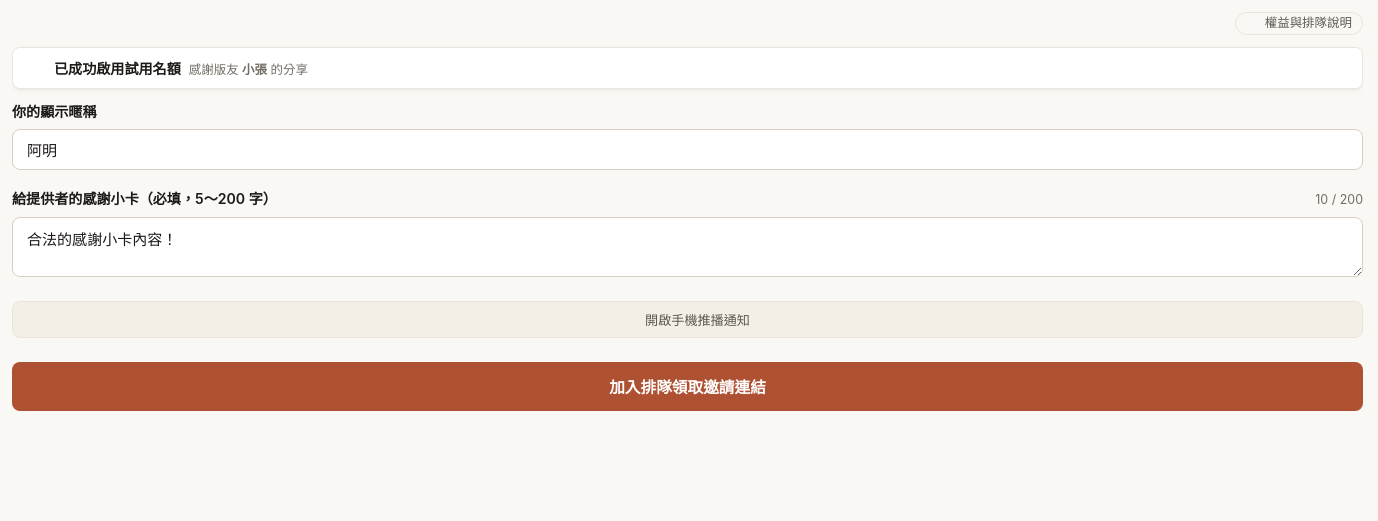
Test: ReceiverPanel 領取歷史卡 › 沒有邀請連結備查時，展開後只顯示感謝小卡
The width and height of the screenshot is (1378, 521).
Click the button "已成功啟用試用名額 感謝版友 小張 的分享" at (117, 68), box left=13, top=48, right=1362, bottom=88
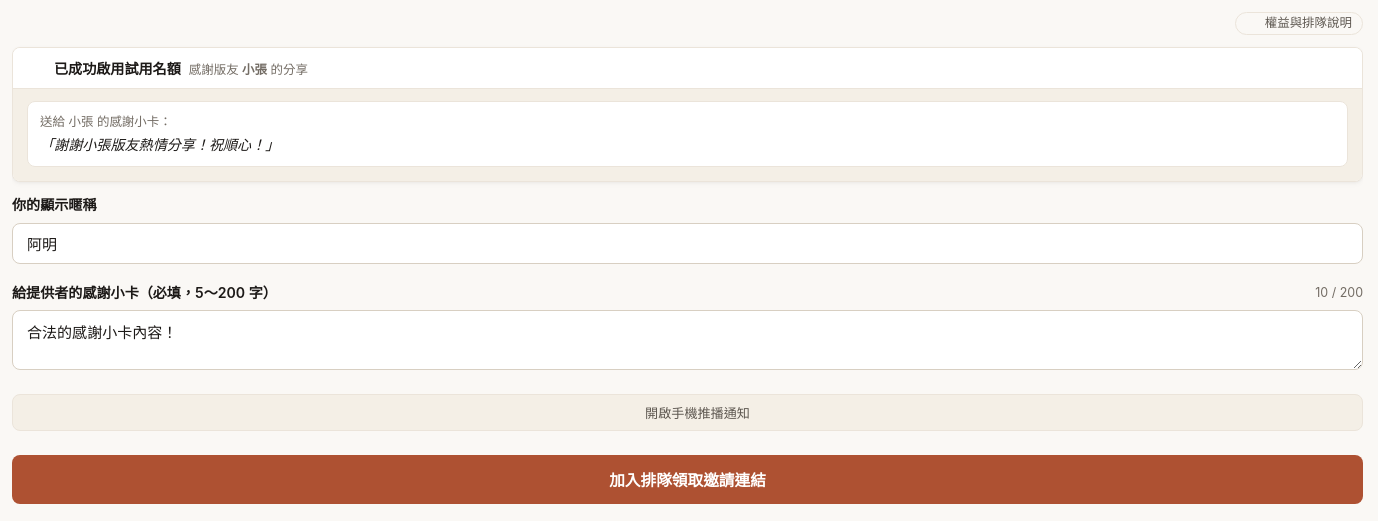
Expected: the text "「謝謝小張版友熱情分享！祝順心！」" is shown, left=40, top=136, right=279, bottom=153
